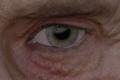eye: (48, 25, 77, 46)
